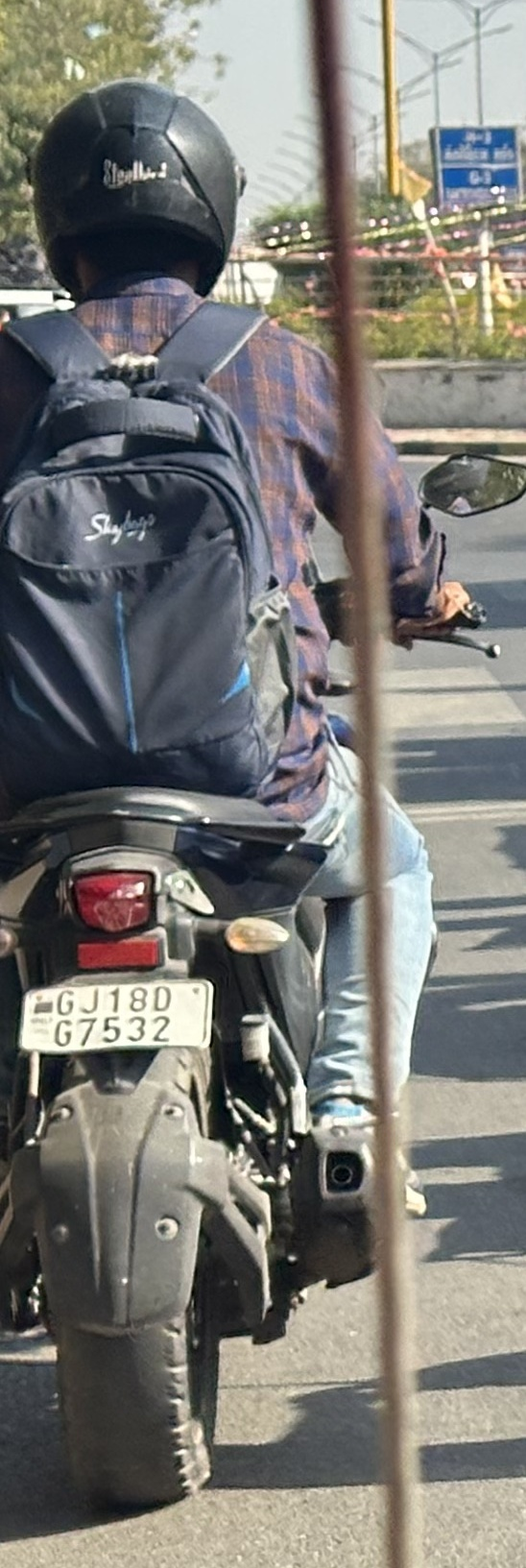BikeWithRider: (1, 57, 526, 1532)
Helmet: (15, 64, 258, 323)
